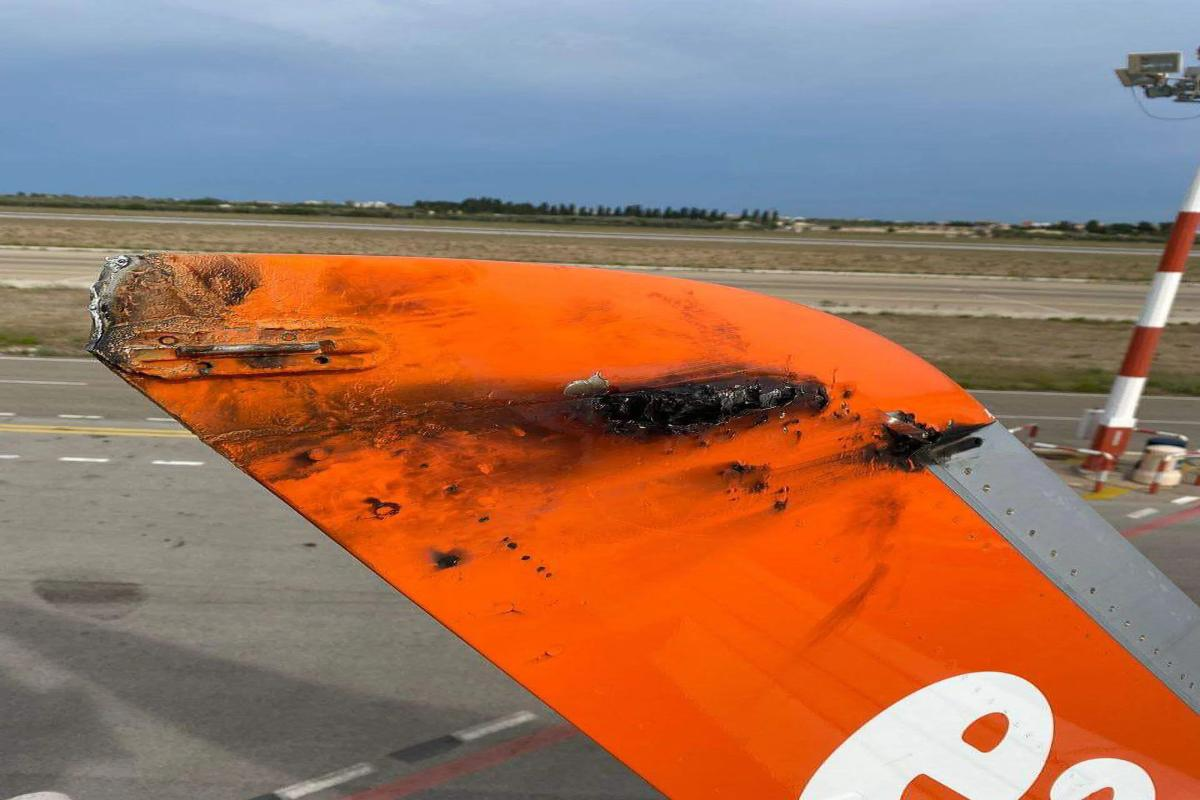Fuselage_damage: (72, 247, 402, 390), (546, 363, 858, 450), (840, 415, 1011, 475)
